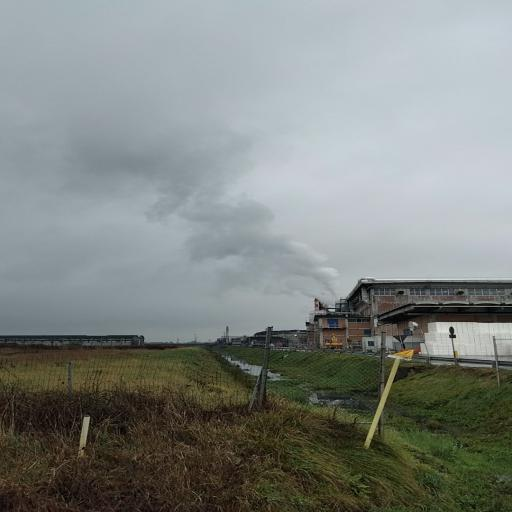leakage: (43, 88, 354, 310)
